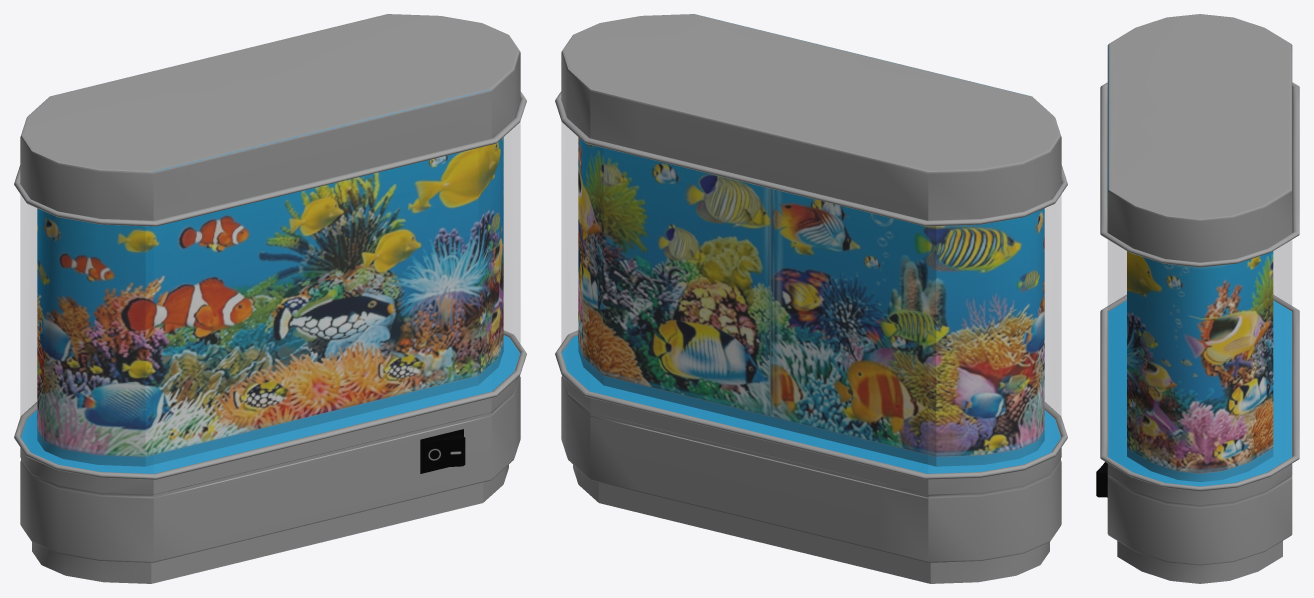
The model's file is aquarium_lamp.glb.
3 views of the same model, side by side, from view 1: azimuth 30°, elevation 25°; view 2: azimuth 150°, elevation 25°; view 3: azimuth 270°, elevation 25° (orthographic). The views are drawn at different scales.
Visible parts, largest first — view 1: aquarium lamp; view 2: aquarium lamp; view 3: aquarium lamp.
Part boxes in pixels (left/top/right/bottom): aquarium lamp: left=14, top=14, right=526, bottom=583; aquarium lamp: left=555, top=14, right=1067, bottom=583; aquarium lamp: left=1096, top=14, right=1299, bottom=583.
Size of the model in its own units: 0.3114 by 0.254 by 0.1271.
Materials: 1 (1 with a texture image).
